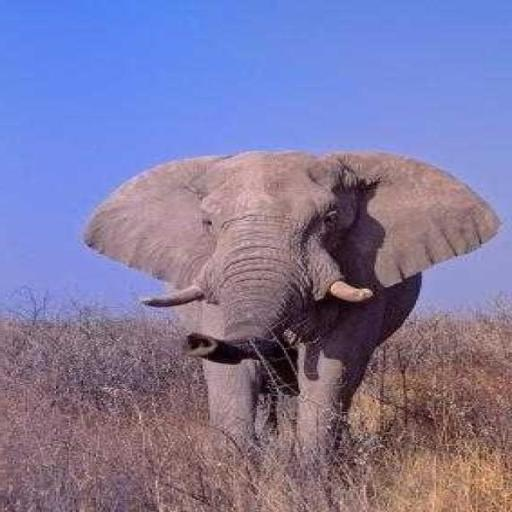Elephant: (81, 147, 501, 470)
